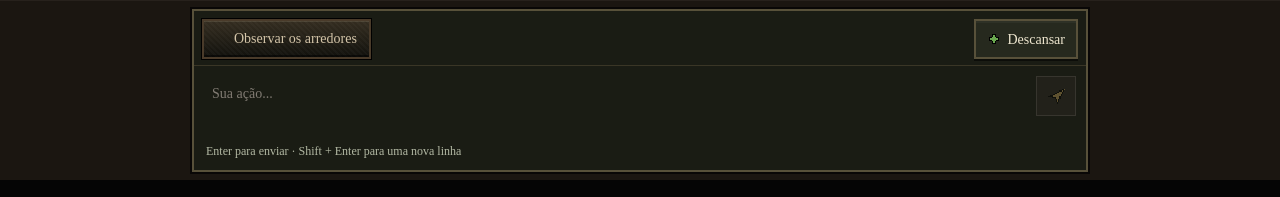
it: DockAcoes — sem seleção › preenche uma sugestão e devolve o foco para escrever
Click the button "Observar os arredores". click: (286, 39)
box: left=202, top=19, right=371, bottom=59
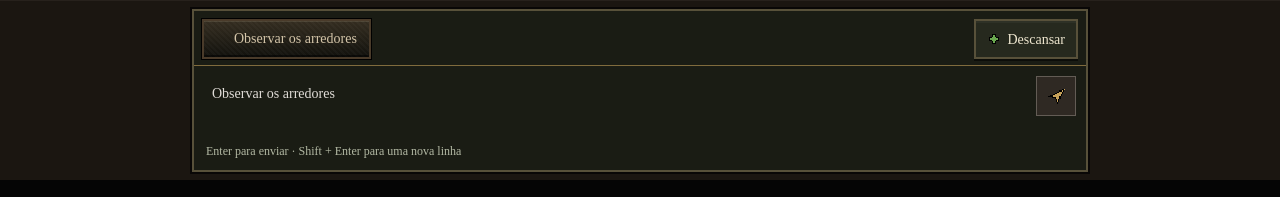
Expected: the text box named "Sua ação" holds "Observar os arredores", left=200, top=72, right=1028, bottom=136
